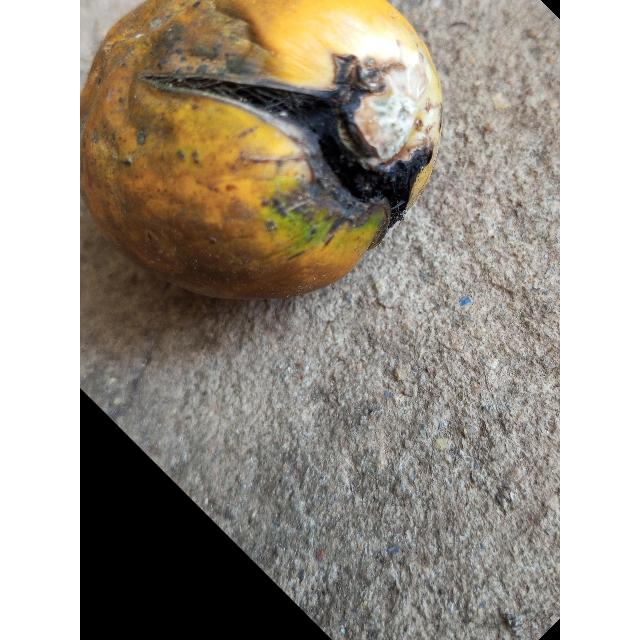damaged: (80, 0, 444, 303)
